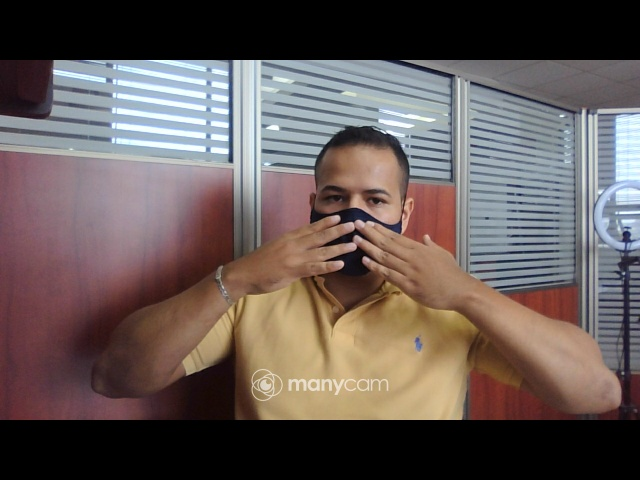Thanks: (234, 211, 482, 320)
